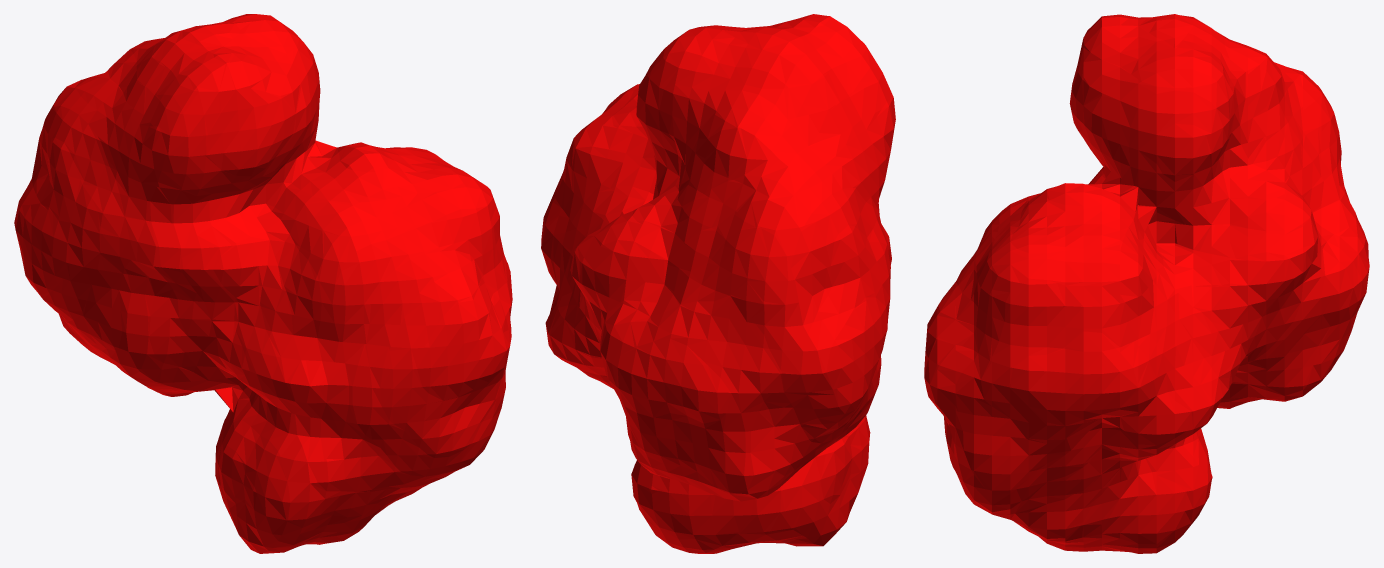
The model's file is hxpB_coarse.dae.
3 renders of one model, left to right at view 1: azimuth 30°, elevation 25°; view 2: azimuth 150°, elevation 25°; view 3: azimuth 270°, elevation 25°, orthographic. The views are drawn at different scales.
Visible parts, largest first — view 1: hxpB; view 2: hxpB; view 3: hxpB.
Part boxes in pixels (x1,y1,x2,y2): hxpB: (14, 14, 512, 553); hxpB: (541, 14, 895, 553); hxpB: (924, 14, 1369, 553).
Size of the model in its own units: 57.77 by 74.95 by 60.86.
